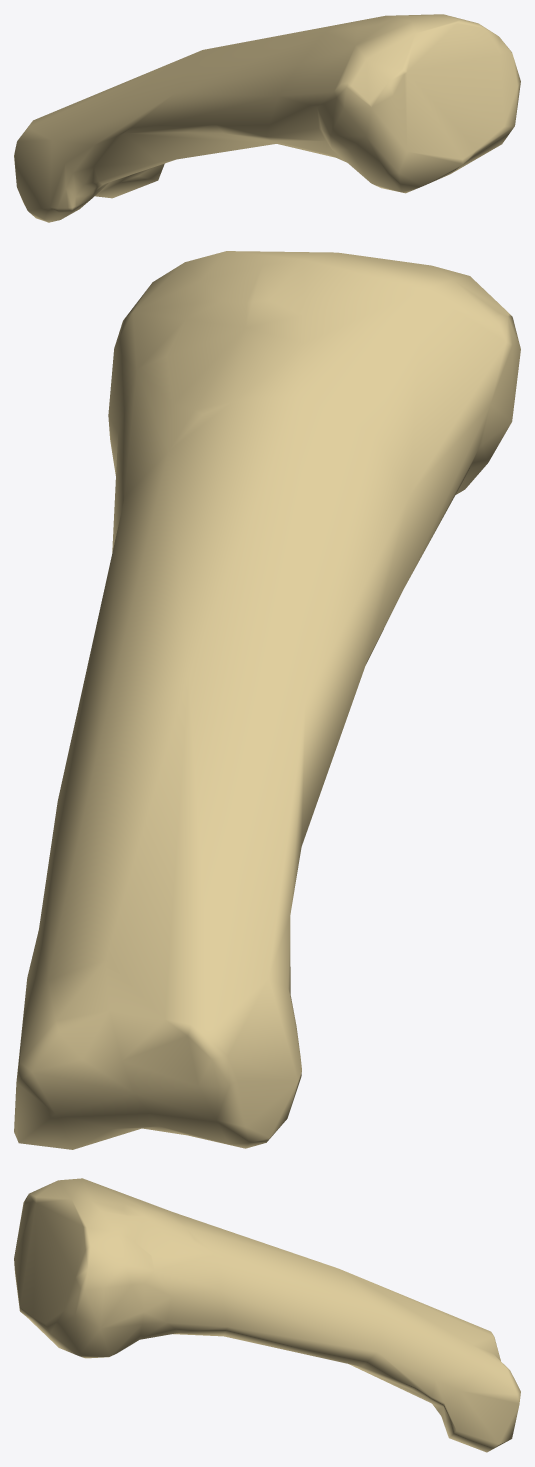
The picture shows the model from 3 angles, top to bottom: view 1: azimuth 30°, elevation 25°; view 2: azimuth 150°, elevation 25°; view 3: azimuth 270°, elevation 25°; orthographic projection. The views are drawn at different scales.
Parts seen in each view (by area): view 1: 右侧第二指近节指骨; view 2: 右侧第二指近节指骨; view 3: 右侧第二指近节指骨.
Boxes of the visible parts, left/top/right/bottom form: 右侧第二指近节指骨: left=14, top=14, right=520, bottom=222; 右侧第二指近节指骨: left=14, top=251, right=520, bottom=1149; 右侧第二指近节指骨: left=14, top=1178, right=520, bottom=1452.
Size of the model in its own units: 0.0335 by 0.0349 by 0.0573.
